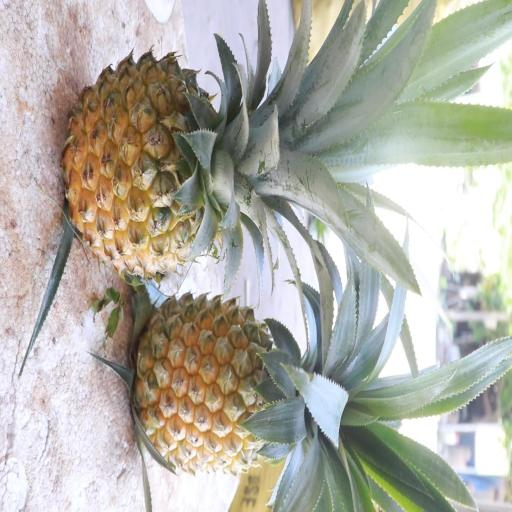Pineapple - v8 v1: (57, 46, 308, 285), (128, 288, 367, 482)
